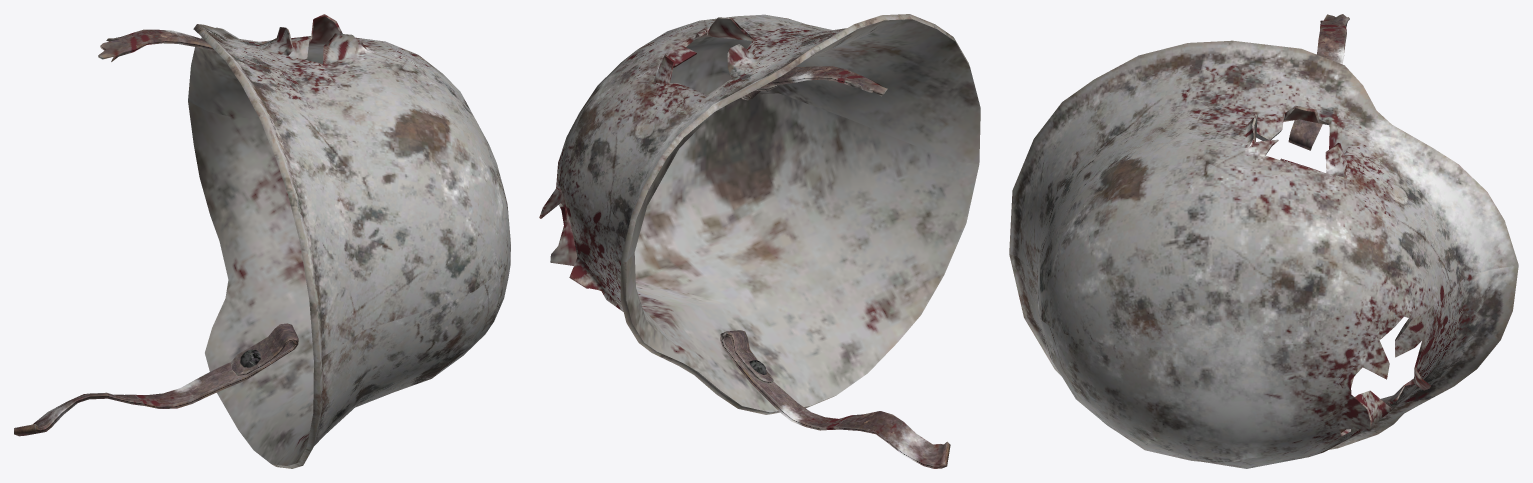
File: c_zom_der_zombie_helmet1.glb
3 renders of one model, left to right at view 1: azimuth 30°, elevation 25°; view 2: azimuth 150°, elevation 25°; view 3: azimuth 270°, elevation 25°, orthographic. The views are drawn at different scales.
Visible parts, largest first — view 1: c_zom_der_zombie_helmet1_mesh; view 2: c_zom_der_zombie_helmet1_mesh; view 3: c_zom_der_zombie_helmet1_mesh.
Part boxes in pixels (x1,y1,x2,y2): c_zom_der_zombie_helmet1_mesh: (14,14,510,468); c_zom_der_zombie_helmet1_mesh: (539,14,980,468); c_zom_der_zombie_helmet1_mesh: (1009,14,1518,468).
Size of the model in its own units: 10.01 by 9.27 by 10.56.
1 material, 1 textured.
